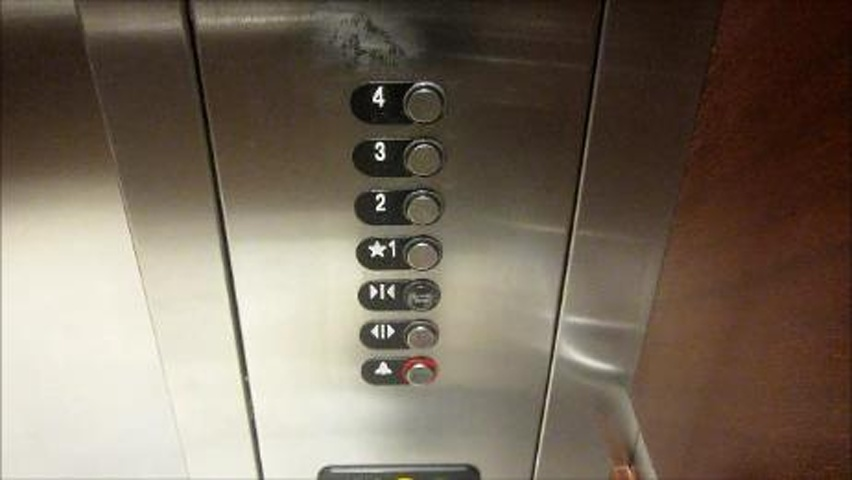2: (353, 186, 444, 227)
3: (351, 136, 446, 180)
4: (350, 78, 447, 127)
alarm: (359, 354, 438, 388)
close: (356, 277, 442, 313)
open: (359, 316, 440, 352)
s1: (355, 235, 444, 272)
